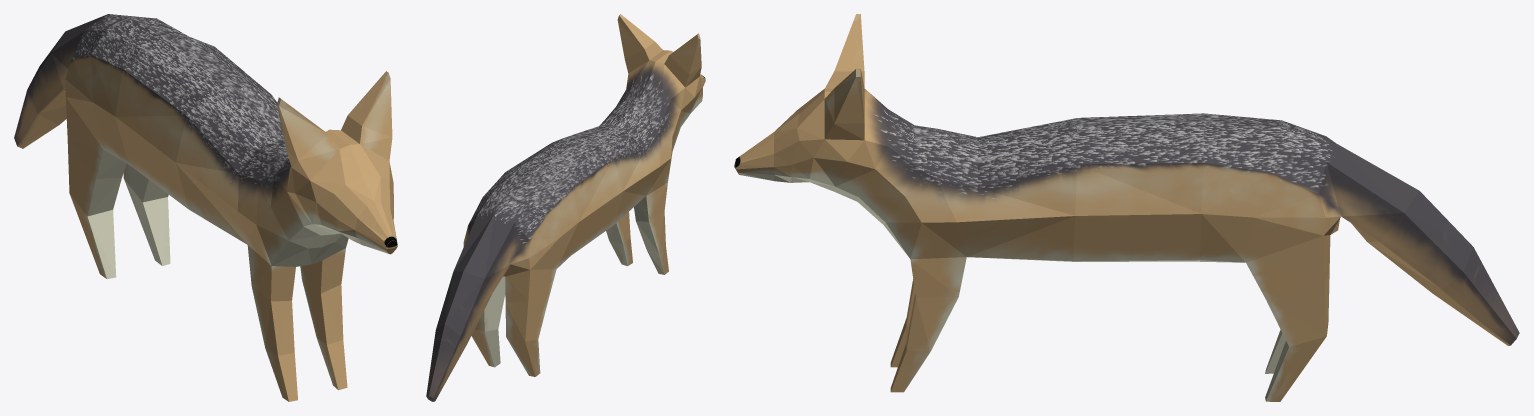
The model's file is jackal.fbx.
The picture shows the model from 3 angles, left to right: view 1: azimuth 30°, elevation 25°; view 2: azimuth 150°, elevation 25°; view 3: azimuth 270°, elevation 25°; orthographic projection. The views are drawn at different scales.
Parts seen in each view (by area): view 1: jackal; view 2: jackal; view 3: jackal.
Part boxes in pixels (bbox=[...]): jackal: bbox=[14, 14, 397, 401]; jackal: bbox=[426, 14, 705, 401]; jackal: bbox=[734, 14, 1519, 401].
Size of the model in its own units: 18.79 by 52.99 by 110.
